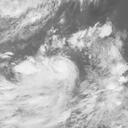cyclone: (33, 55, 78, 98)
